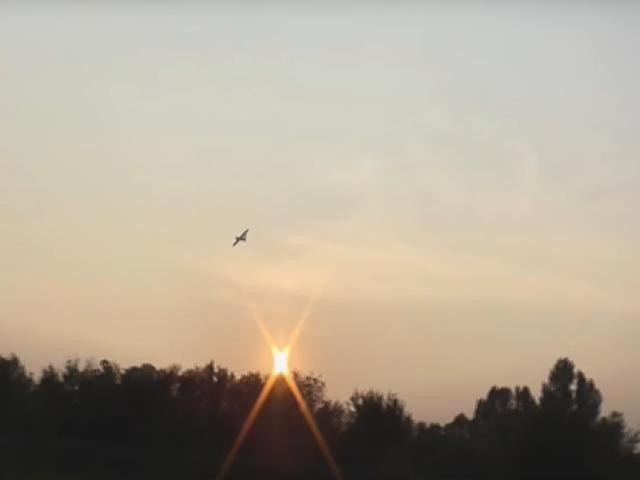iha: (234, 230, 248, 246)
